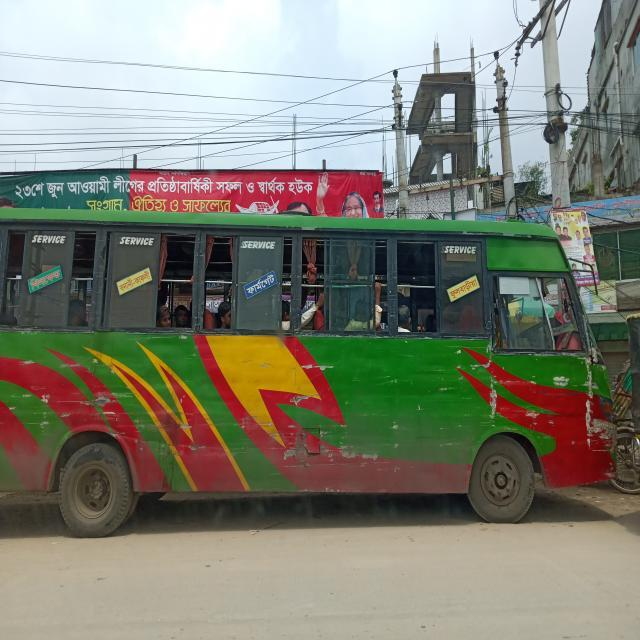Bus: (1, 174, 627, 558)
